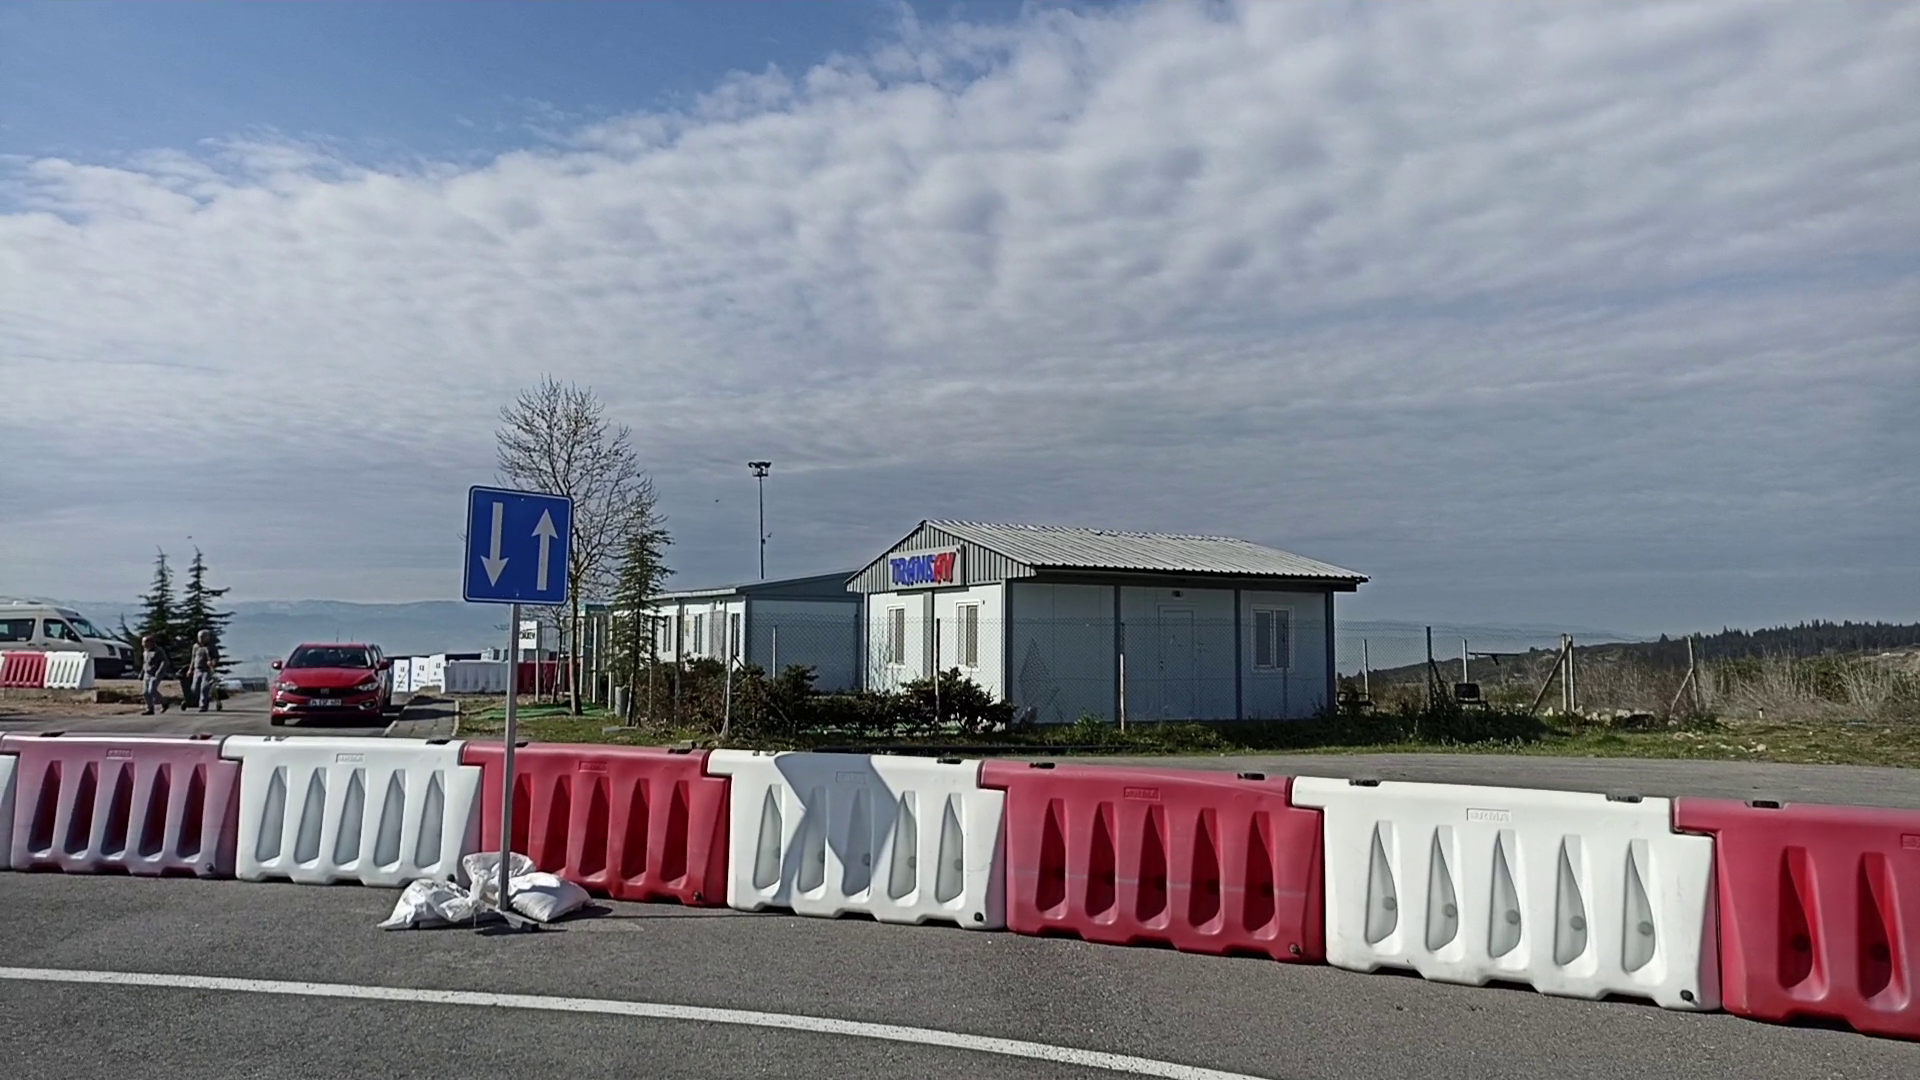oneway: (460, 483, 575, 611)
